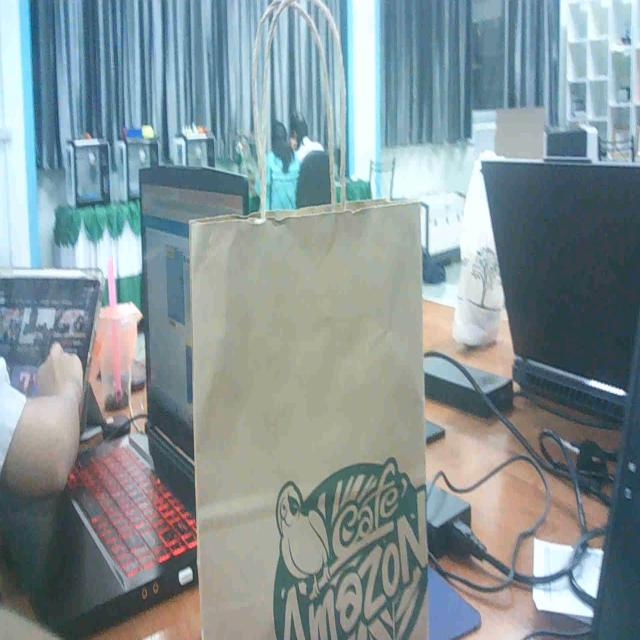bag: (179, 172, 444, 640)
